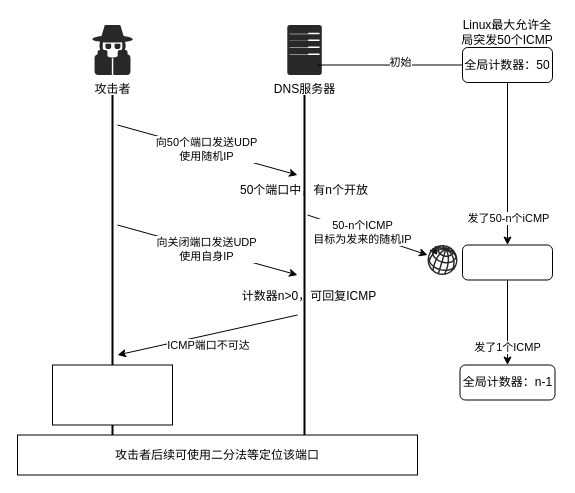
Some shapes in this 575 by 493 pixel diagram are drawn without their labels. The shapes that lost their labels are listed below. From the top down, each one's box as (x1, y1, x2, y2) in pixels, then its label:
(462, 244, 552, 280): 全局计数器：n
(52, 364, 172, 425): 攻击者收到ICMP 得知这50个端口中至少有一个端口开放
